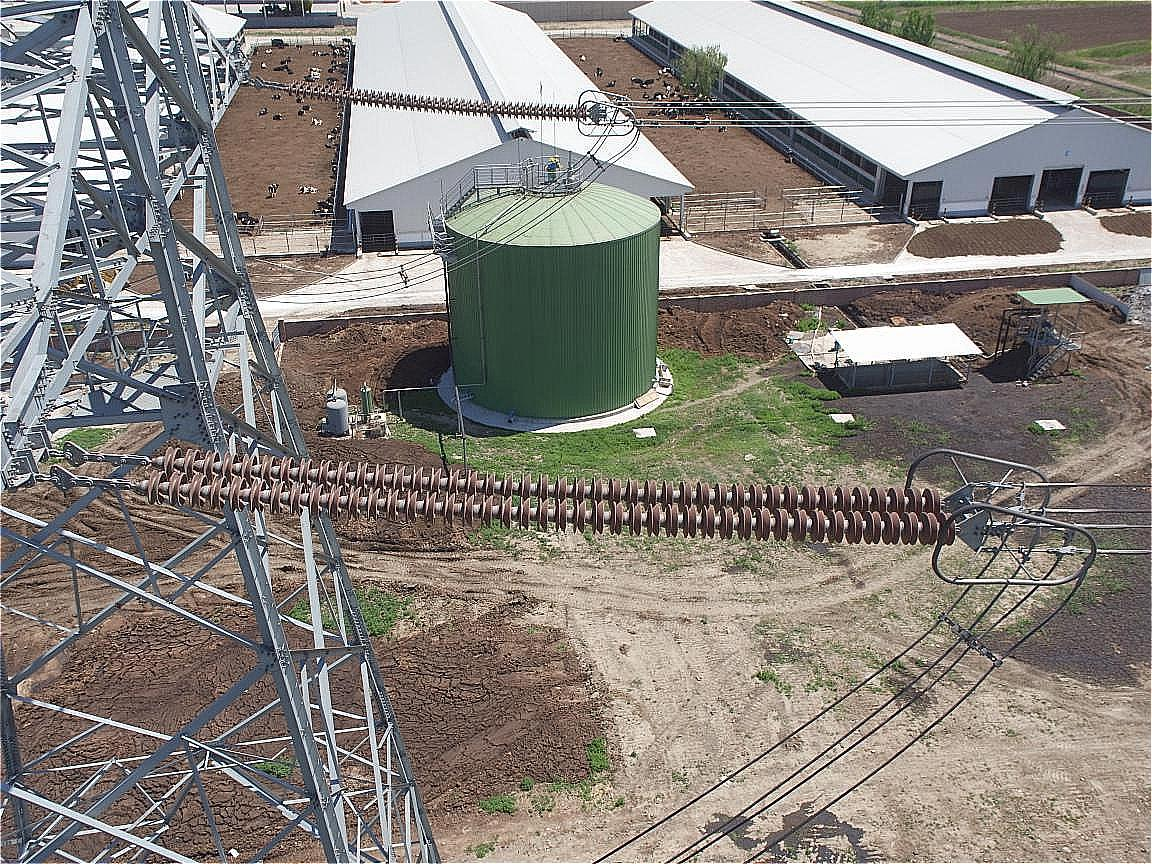insultor2: (96, 427, 977, 568)
